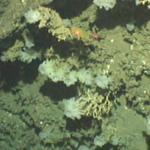alive: (1, 11, 147, 148)
